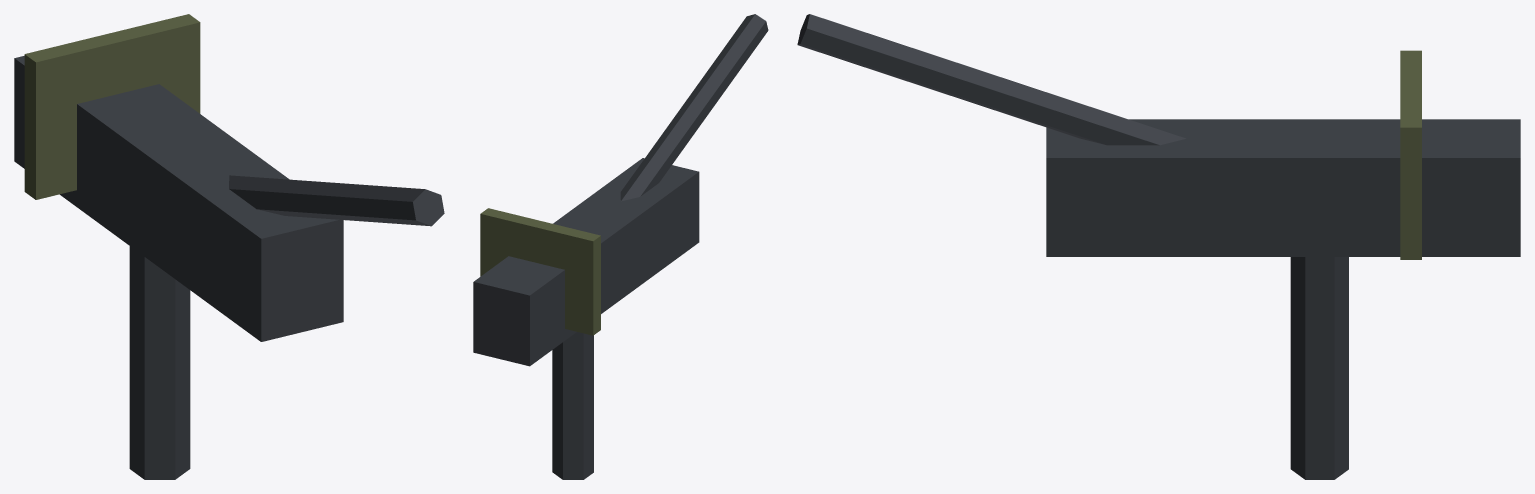
The model's file is mfg_gun.glb.
3 views of the same model, side by side, from view 1: azimuth 30°, elevation 25°; view 2: azimuth 150°, elevation 25°; view 3: azimuth 270°, elevation 25° (orthographic). The views are drawn at different scales.
Visible parts, largest first — view 1: mfg_gun; view 2: mfg_gun; view 3: mfg_gun.
Boxes of the visible parts, left/top/right/bottom form: mfg_gun: left=14, top=14, right=444, bottom=479; mfg_gun: left=473, top=14, right=768, bottom=479; mfg_gun: left=797, top=14, right=1520, bottom=479.
Size of the model in its own units: 0.5 by 1.38 by 1.98.
